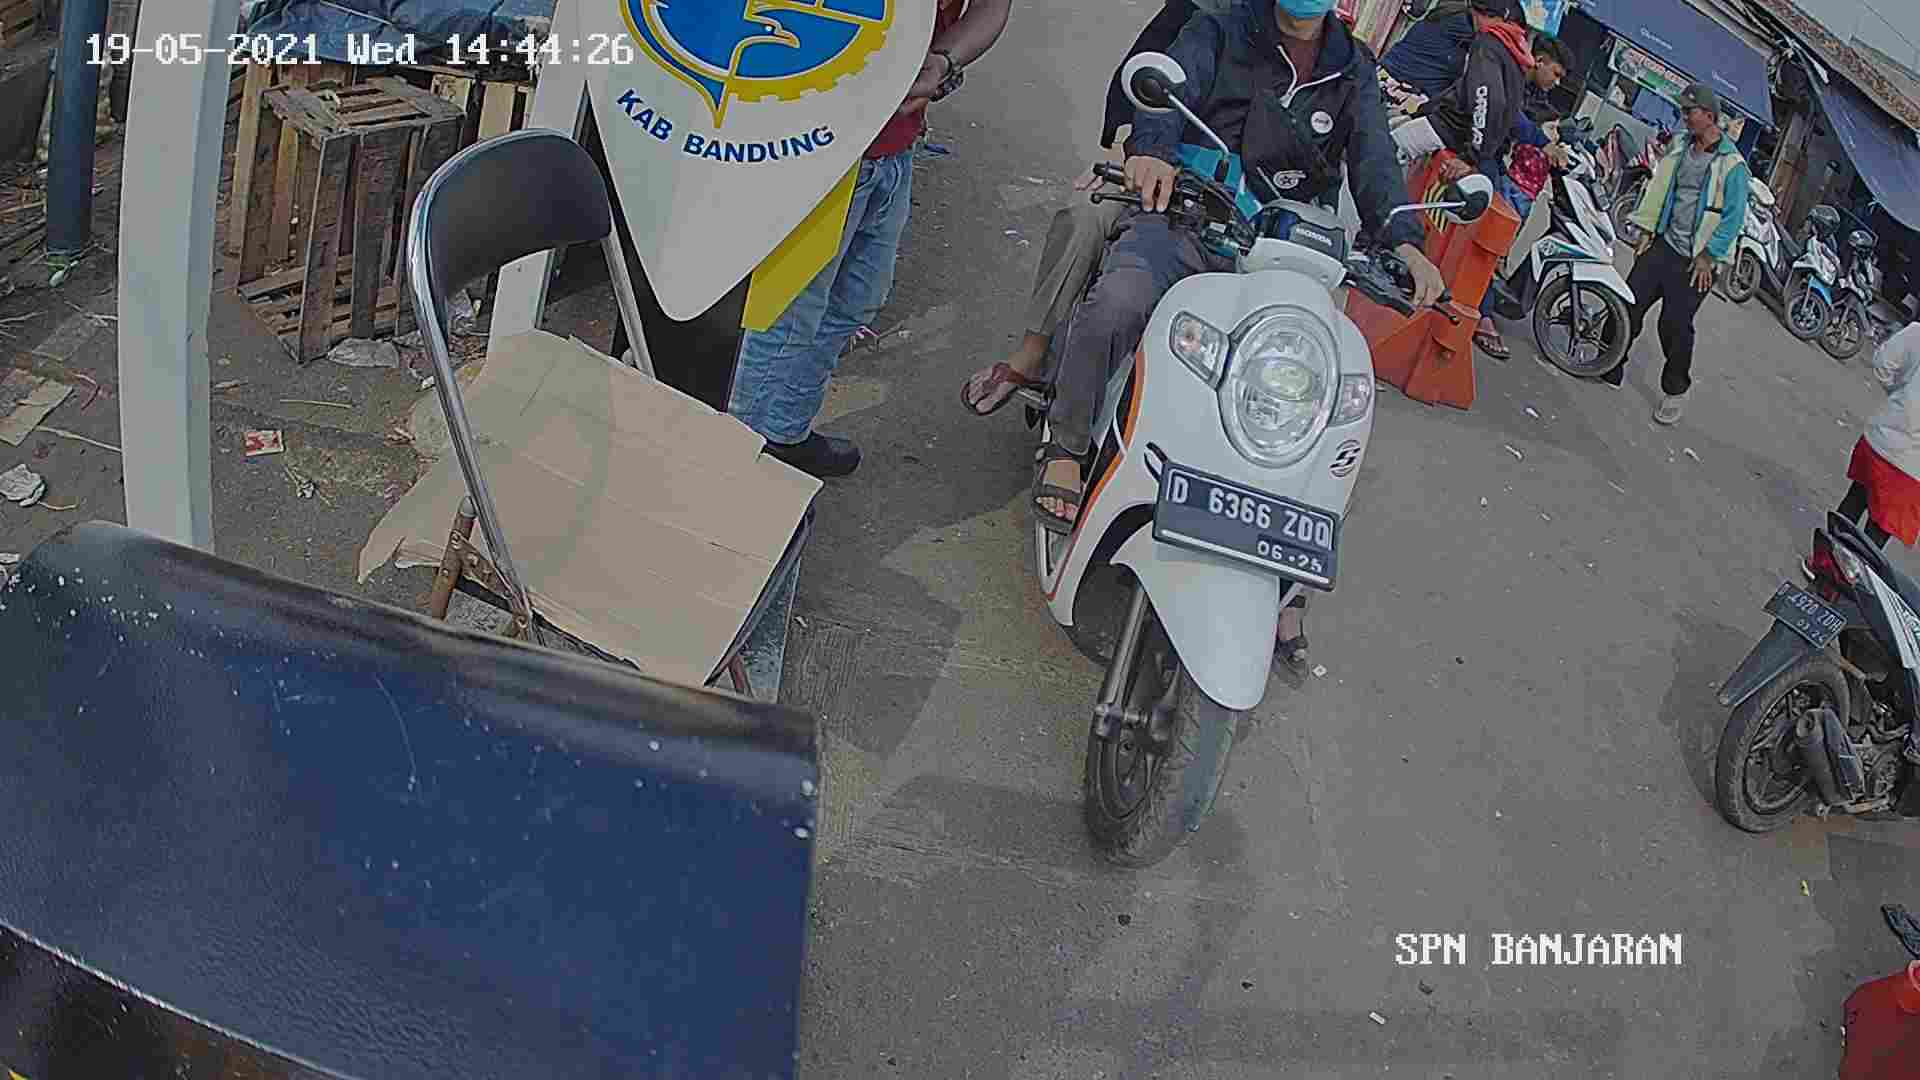motor: (1069, 156, 1364, 862), (1487, 127, 1607, 372)
